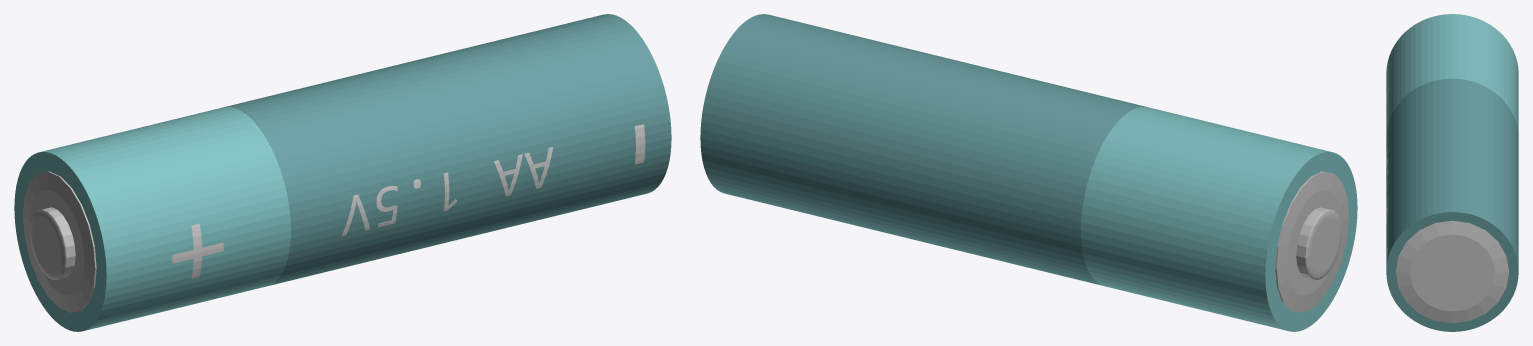
File: battery.glb
3 views of the same model, side by side, from view 1: azimuth 30°, elevation 25°; view 2: azimuth 150°, elevation 25°; view 3: azimuth 270°, elevation 25° (orthographic). The views are drawn at different scales.
Visible parts, largest first — view 1: Mesh_Mesh_head_geo.001_lambert2SG.001; view 2: Mesh_Mesh_head_geo.001_lambert2SG.001; view 3: Mesh_Mesh_head_geo.001_lambert2SG.001.
Boxes of the visible parts, box(x1,y1,x2,y2) form: Mesh_Mesh_head_geo.001_lambert2SG.001: box(14, 14, 671, 331); Mesh_Mesh_head_geo.001_lambert2SG.001: box(700, 14, 1357, 331); Mesh_Mesh_head_geo.001_lambert2SG.001: box(1386, 14, 1518, 331).
Bounding box in the file's own units: 0.051 × 0.014 × 0.014.
